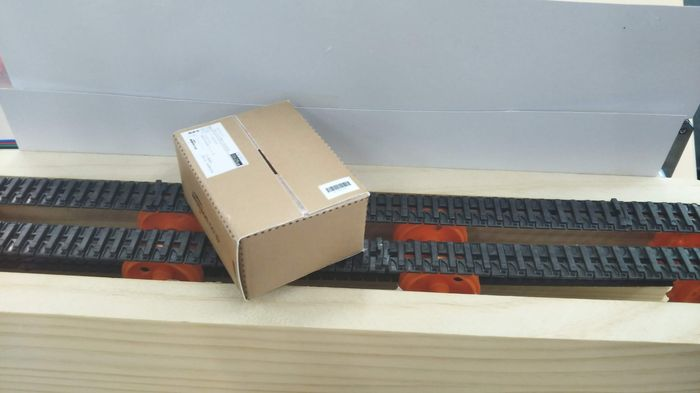box1: (167, 94, 371, 300)
